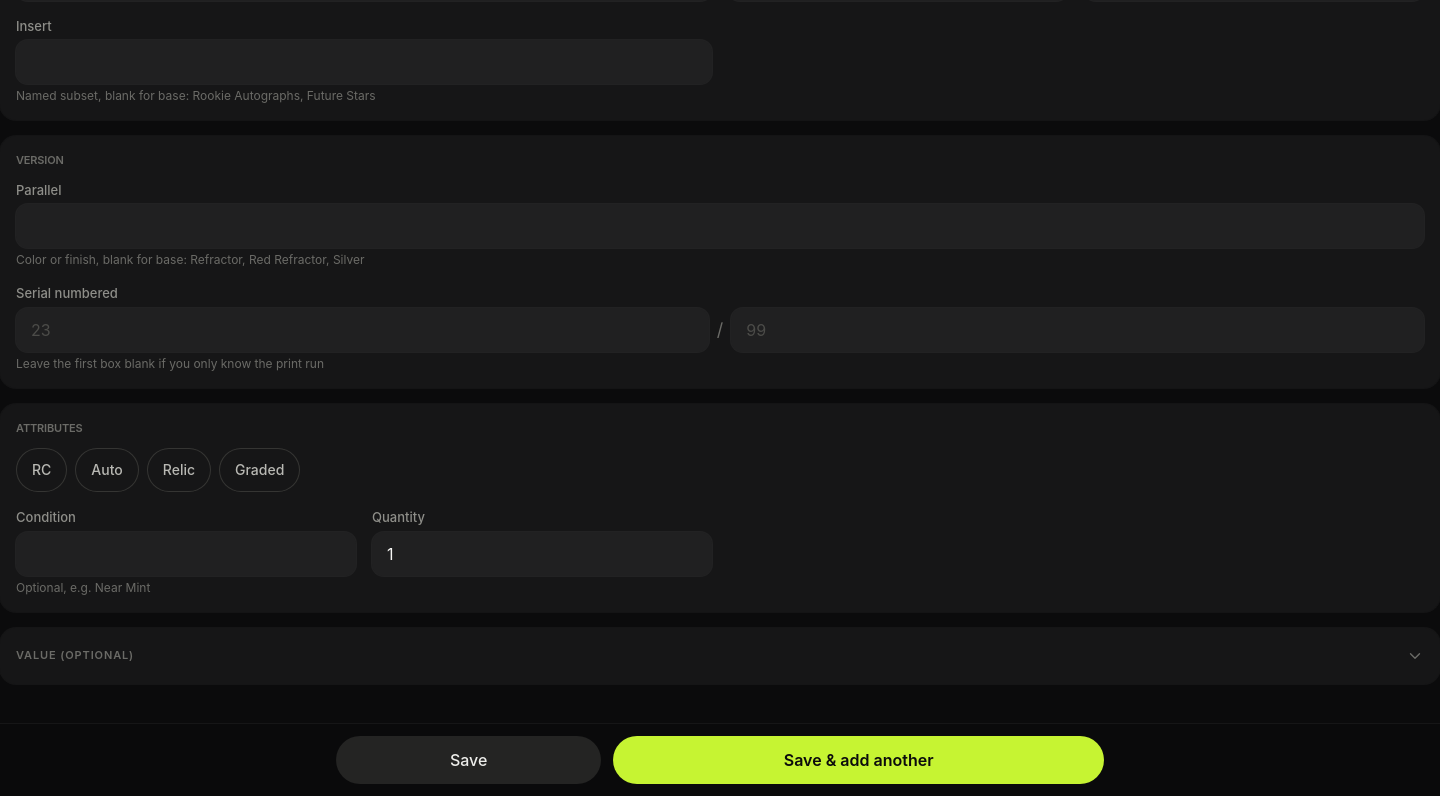
it: CardForm › shows grading fields only when Graded is on
(page scrolled)
Click the button "Graded" at (260, 470), box [219, 448, 300, 492]
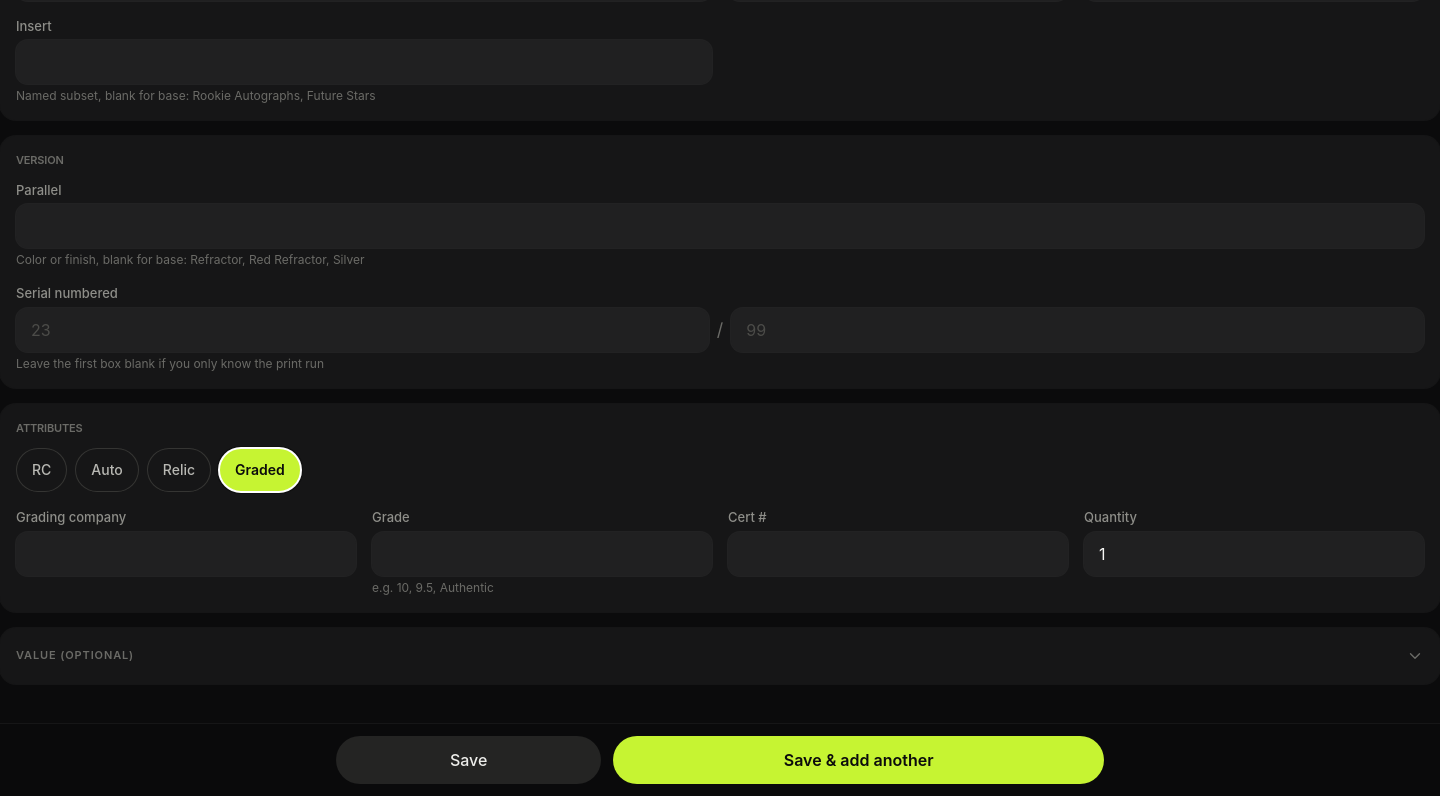
Result: the label labelled "Condition" is gone
